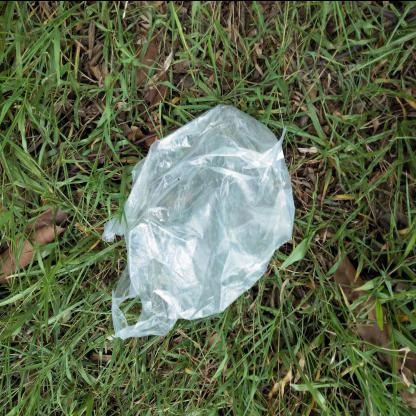plastik: (102, 103, 296, 338)
